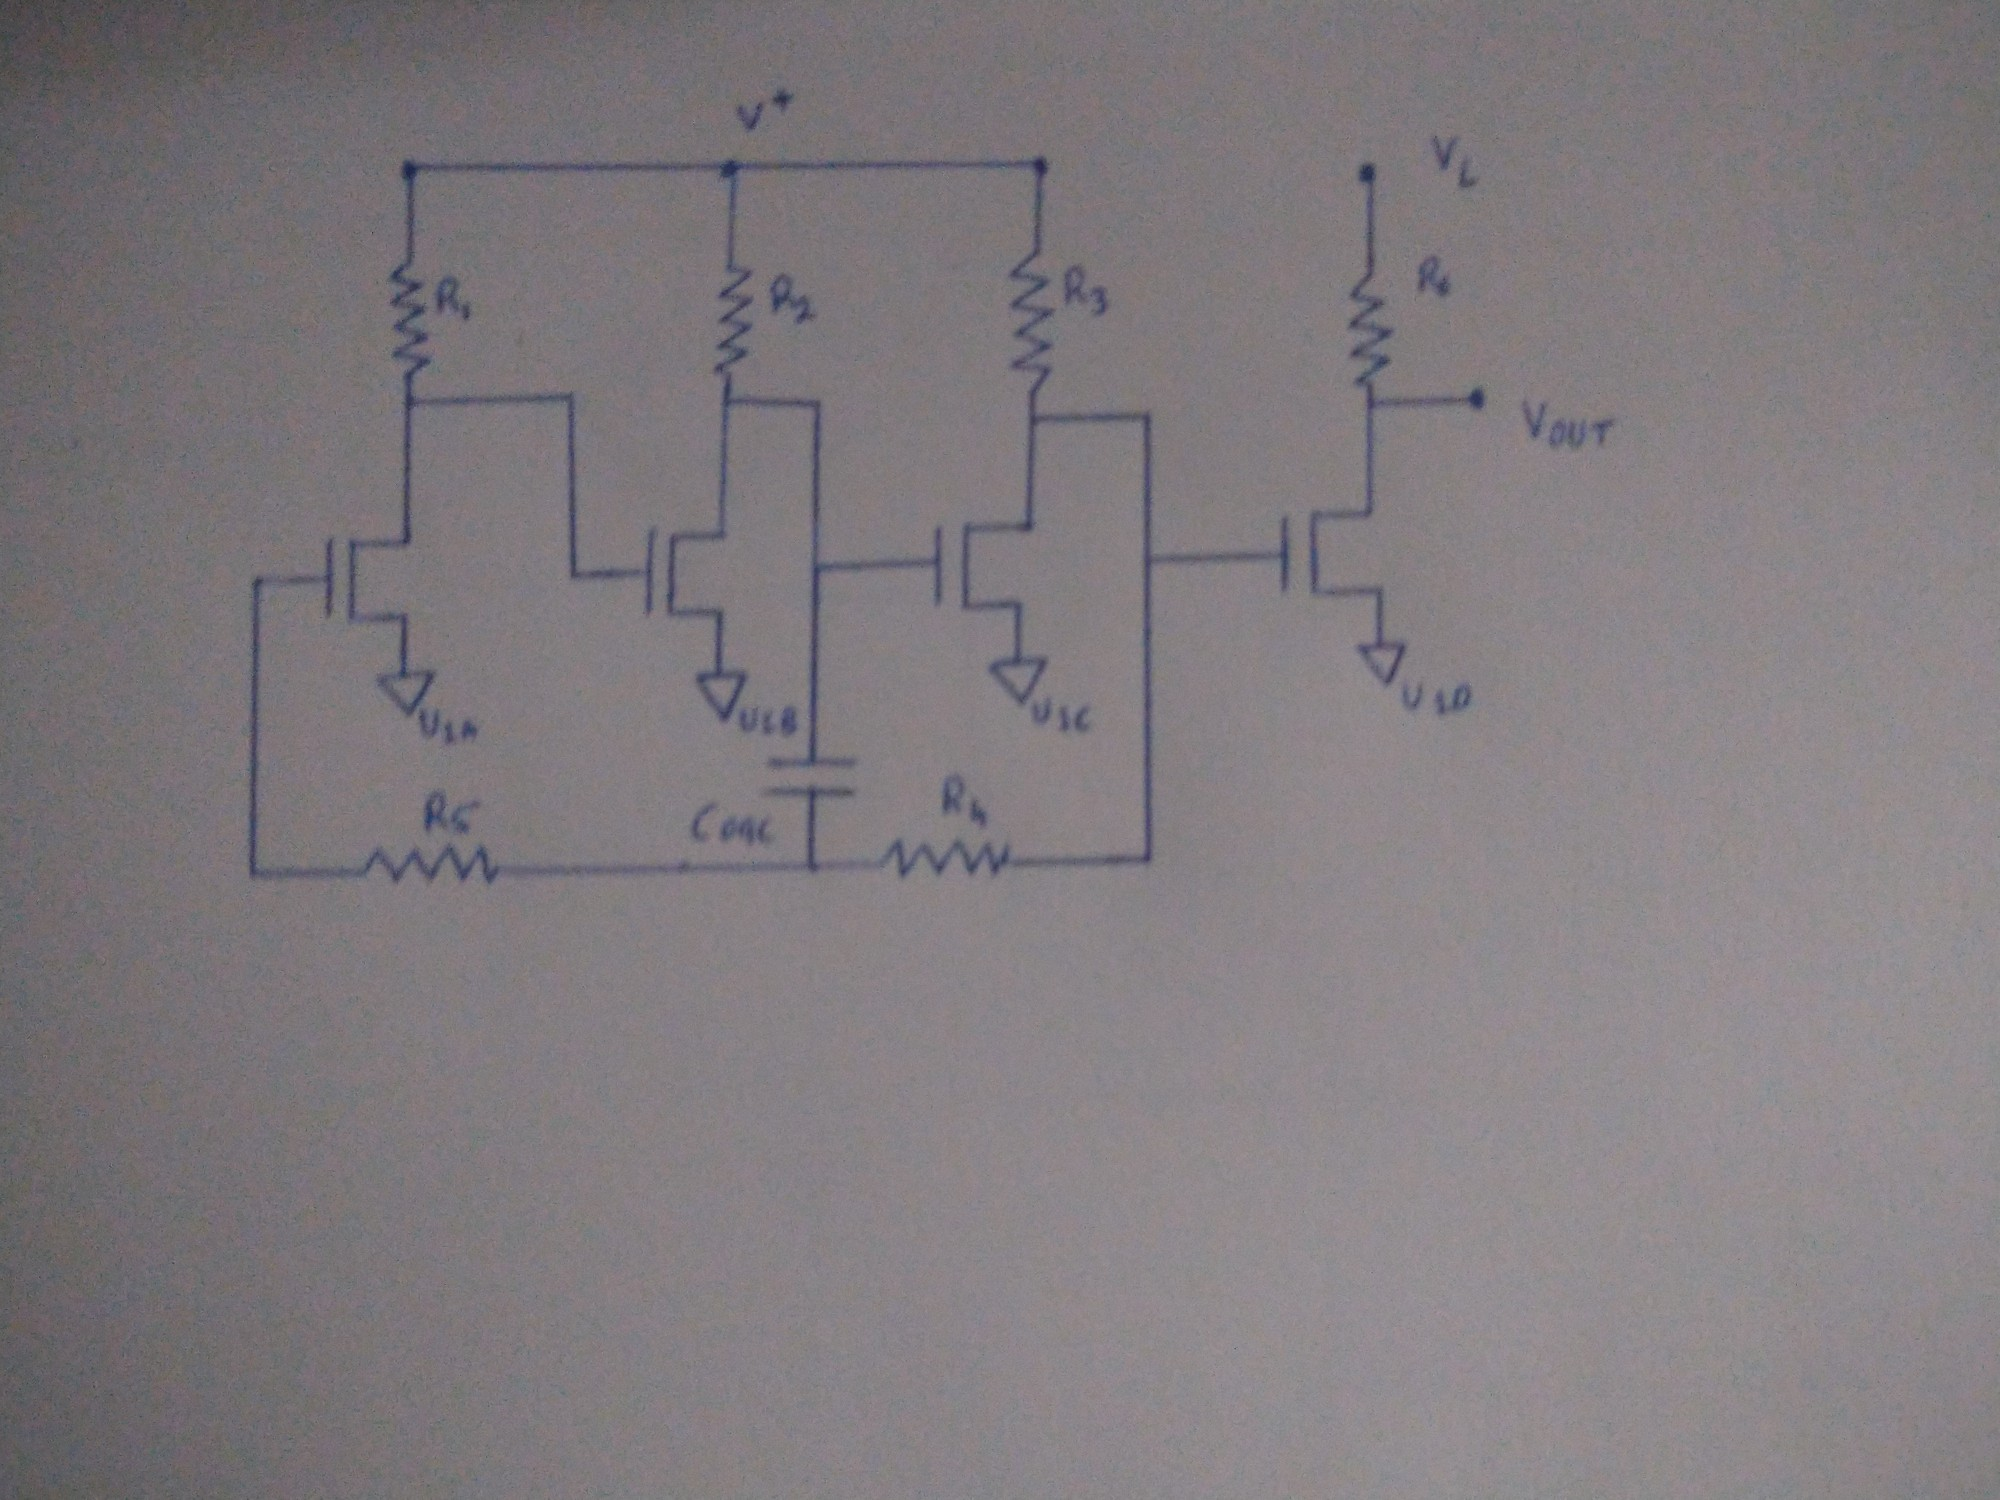capacitor.unpolarized: (751, 745, 865, 807)
gnd: (1353, 638, 1409, 687)
junction: (717, 154, 746, 184), (1024, 150, 1054, 176), (394, 156, 420, 183), (567, 562, 589, 591), (398, 389, 420, 414), (798, 851, 820, 876), (1135, 407, 1157, 432), (806, 555, 827, 581), (556, 388, 581, 408), (244, 569, 265, 592), (1140, 846, 1161, 870), (1139, 550, 1159, 574), (246, 863, 266, 886), (1024, 408, 1046, 429), (1357, 395, 1383, 411), (717, 392, 737, 410), (806, 395, 824, 414)
resistor: (1003, 252, 1060, 402), (356, 841, 517, 890), (871, 835, 1013, 887), (1345, 271, 1397, 391), (384, 254, 431, 381), (710, 260, 757, 377)
terminal: (373, 662, 436, 718), (984, 655, 1050, 704), (691, 670, 750, 722), (1458, 381, 1494, 414), (1353, 154, 1384, 187)
text: (1520, 399, 1616, 451), (729, 84, 805, 139), (690, 800, 772, 848), (1424, 132, 1491, 187), (935, 772, 995, 830), (417, 788, 483, 837), (1402, 681, 1479, 717), (769, 273, 819, 323), (1028, 700, 1094, 737), (1061, 266, 1110, 317), (414, 709, 480, 745), (735, 703, 802, 739), (431, 276, 479, 323), (1413, 255, 1452, 299)
transistor: (1272, 496, 1397, 603), (928, 512, 1041, 618), (631, 522, 739, 626), (317, 529, 427, 629)
